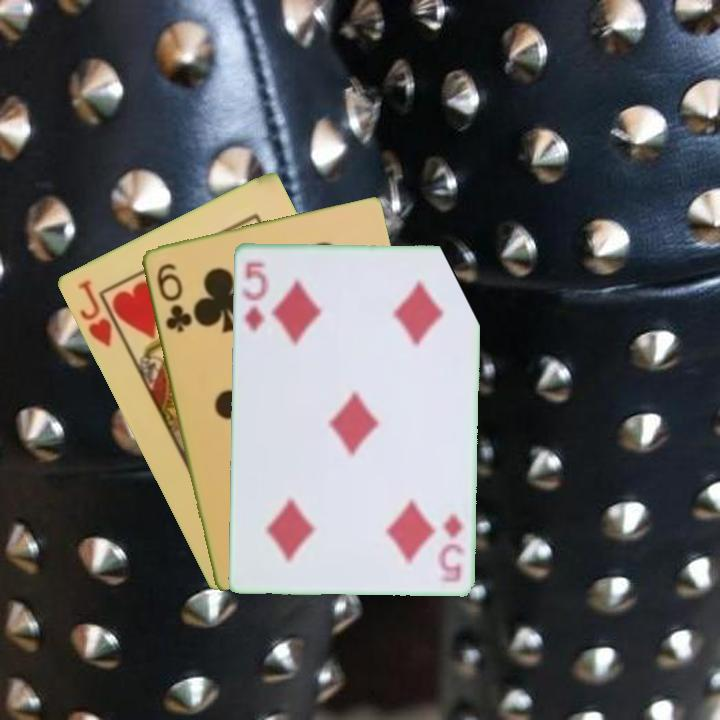5d: (239, 258, 271, 334), (437, 509, 467, 584)
6c: (152, 259, 193, 335)
Jh: (73, 276, 115, 350)
